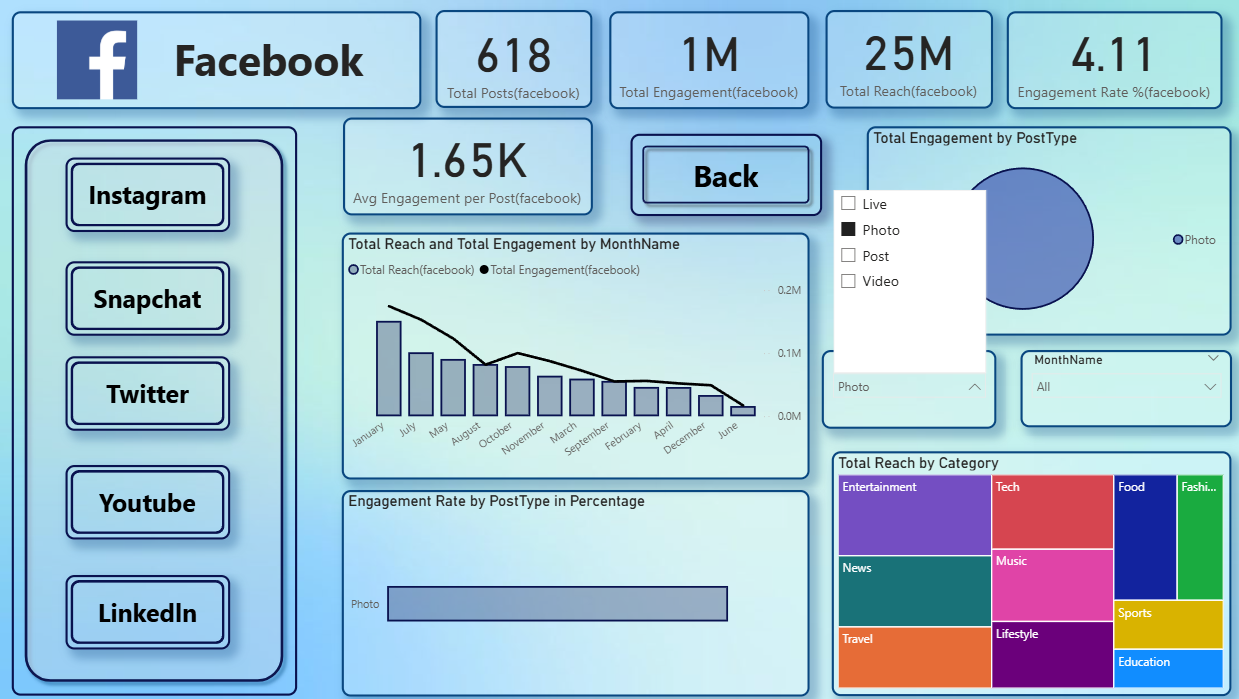

What the dashboard file says about the page in this screenshot:
{"tool":"powerbi","page":{"name":"Facebook","canvas":[1400,800],"ordinal":2},"visuals":[{"type":"textbox","box":[15.7,18.6,461.4,110],"z":0},{"type":"image","box":[0,24.3,222.9,98.6],"z":1000},{"type":"card","fields":{"Values":["Facebook_Data.Avg Engagement per Post(facebook)"]},"box":[388.6,138.6,281.4,110],"z":2000},{"type":"card","fields":{"Values":["Facebook_Data.Engagement Rate %(facebook)"]},"box":[1137.1,18.6,242.9,110],"z":3000},{"type":"card","fields":{"Values":["Facebook_Data.Total Engagement(facebook)"]},"box":[688.6,18.6,225.7,110],"z":4000},{"type":"card","fields":{"Values":["Facebook_Data.Total Posts(facebook)"]},"box":[492.9,17.1,177.1,110],"z":5000},{"type":"card","fields":{"Values":["Facebook_Data.Total Reach(facebook)"]},"box":[932.9,17.1,188.6,111.4],"z":6000},{"type":"lineClusteredColumnComboChart","title":"Total Reach and Total Engagement by MonthName","fields":{"Category":["Facebook_Data.MonthName"],"Y":["Facebook_Data.Total Reach(facebook)"],"Y2":["Facebook_Data.Total Engagement(facebook)"]},"box":[387.1,267.1,527.1,278.6],"z":7000},{"type":"pieChart","title":"Total Engagement by PostType","fields":{"Y":["Facebook_Data.Total Engagement(facebook)"],"Category":["Facebook_Data.PostType"]},"box":[978.6,148.6,411.4,235.7],"z":8000},{"type":"treemap","title":"Total Reach by Category","fields":{"Group":["Facebook_Data.Category"],"Values":["Facebook_Data.Total Reach(facebook)"]},"box":[940,514.3,450,275.7],"z":9000},{"type":"slicer","fields":{"Values":["Facebook_Data.MonthName"]},"box":[1151.4,400,238.6,87.1],"z":10000},{"type":"barChart","title":"Engagement Rate by PostType in Percentage","fields":{"Category":["Facebook_Data.PostType"],"Y":["Facebook_Data.Engagement Rate %(facebook)"]},"box":[387.1,557.1,527.1,232.9],"z":11000},{"type":"slicer","fields":{"Values":["Facebook_Data.PostType"]},"box":[928.6,400,197.1,88.6],"z":12000},{"type":"actionButton","box":[712.9,155.7,215.7,92.9],"z":13000},{"type":"shape","box":[15.7,148.6,321.4,641.4],"z":14000},{"type":"actionButton","box":[75.7,182.9,185.7,84.3],"z":15000},{"type":"actionButton","box":[75.7,407.1,185.7,84.3],"z":16000},{"type":"actionButton","box":[75.7,530,185.7,84.3],"z":17000},{"type":"actionButton","box":[75.7,652.9,185.7,84.3],"z":18000},{"type":"actionButton","box":[75.7,300,185.7,84.3],"z":19000}]}

Visuals, with their boxes in screenshot pixels (x1, y1, x2, y2), scaled from the page's 1400x800 canvas onto the 1239x699 screenshot:
textbox: [14, 16, 422, 112]
image: [0, 21, 197, 107]
card - Facebook_Data.Avg Engagement per Post(facebook): [344, 121, 593, 217]
card - Facebook_Data.Engagement Rate %(facebook): [1006, 16, 1221, 112]
card - Facebook_Data.Total Engagement(facebook): [609, 16, 809, 112]
card - Facebook_Data.Total Posts(facebook): [436, 15, 593, 111]
card - Facebook_Data.Total Reach(facebook): [826, 15, 993, 112]
"Total Reach and Total Engagement by MonthName" lineClusteredColumnComboChart: [343, 233, 809, 477]
"Total Engagement by PostType" pieChart: [866, 130, 1230, 336]
"Total Reach by Category" treemap: [832, 449, 1230, 690]
slicer - Facebook_Data.MonthName: [1019, 350, 1230, 426]
"Engagement Rate by PostType in Percentage" barChart: [343, 487, 809, 690]
slicer - Facebook_Data.PostType: [822, 350, 996, 427]
actionButton: [631, 136, 822, 217]
shape: [14, 130, 298, 690]
actionButton: [67, 160, 231, 233]
actionButton: [67, 356, 231, 429]
actionButton: [67, 463, 231, 537]
actionButton: [67, 570, 231, 644]
actionButton: [67, 262, 231, 336]
